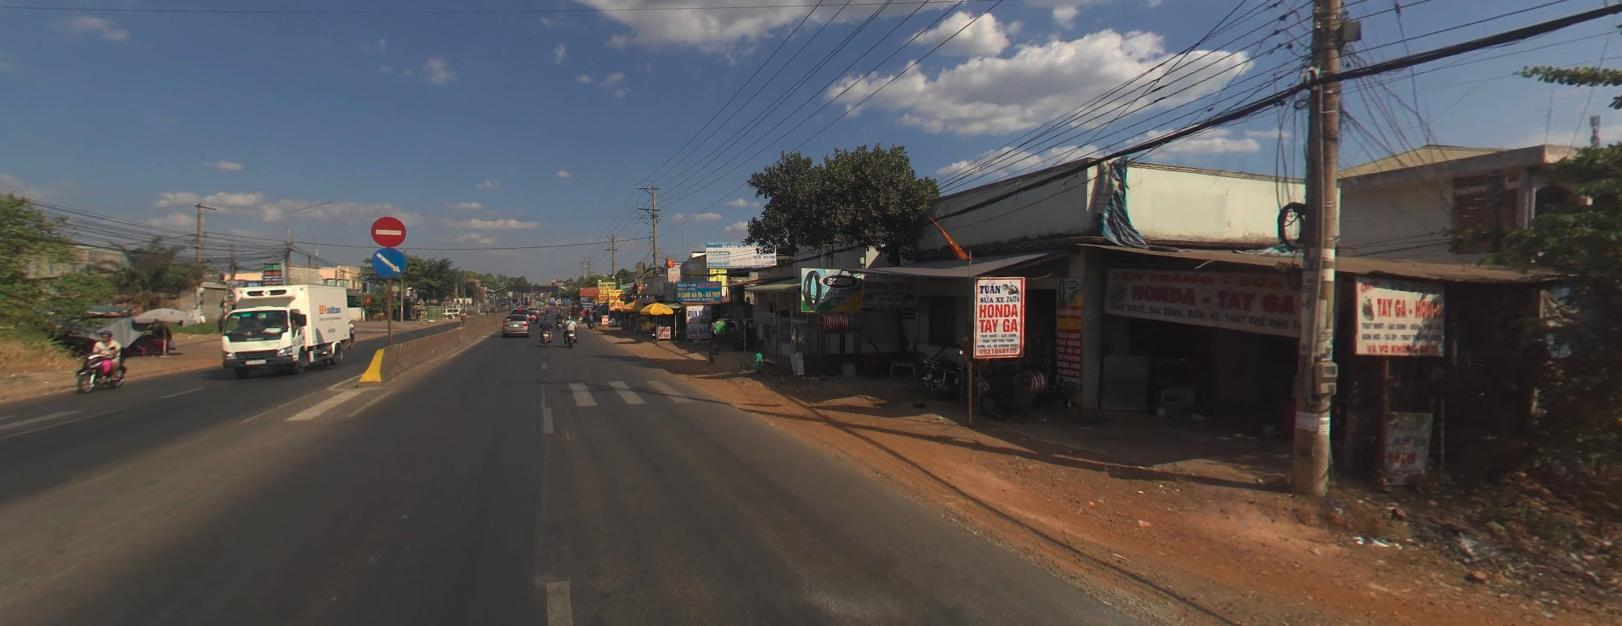Cam nguoc chieu: (370, 214, 407, 245)
Hieu lenh: (371, 245, 405, 276)
